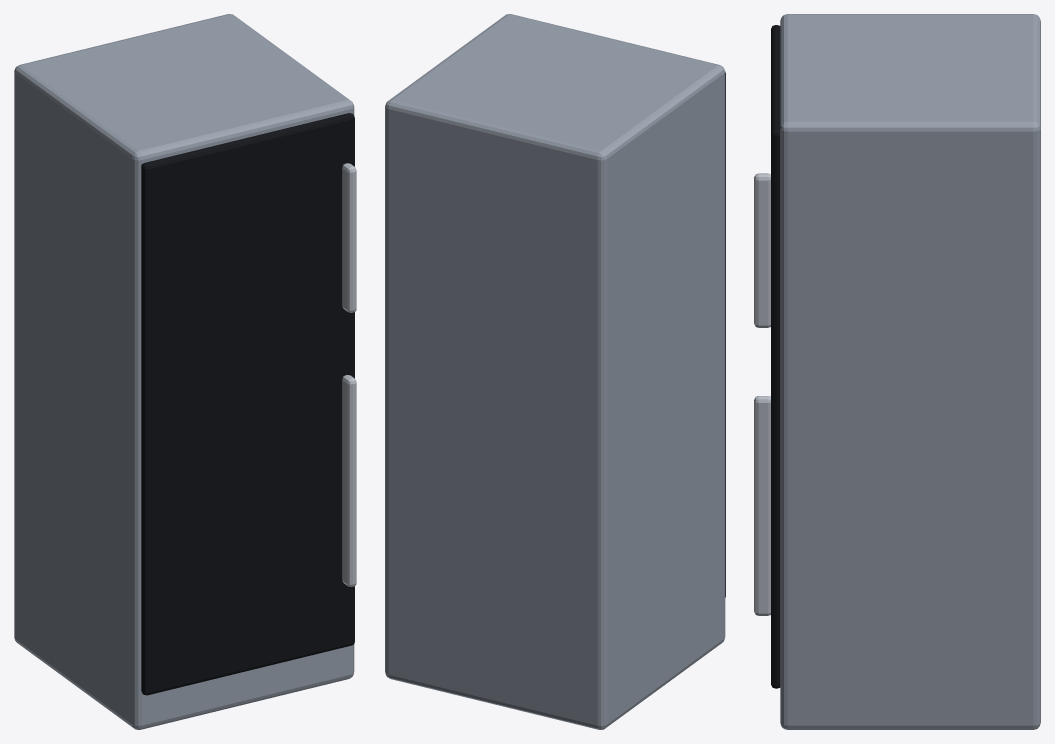
The model's file is fridge.glb.
3 views of the same model, side by side, from view 1: azimuth 30°, elevation 25°; view 2: azimuth 150°, elevation 25°; view 3: azimuth 270°, elevation 25° (orthographic). The views are drawn at different scales.
Parts seen in each view (by area): view 1: shell; view 2: shell; view 3: shell.
Part boxes in pixels (bbox=[...]): shell: bbox=[14, 14, 356, 729]; shell: bbox=[385, 14, 725, 729]; shell: bbox=[754, 14, 1040, 729].
Size of the model in its own units: 0.72 by 1.8 by 0.77.
